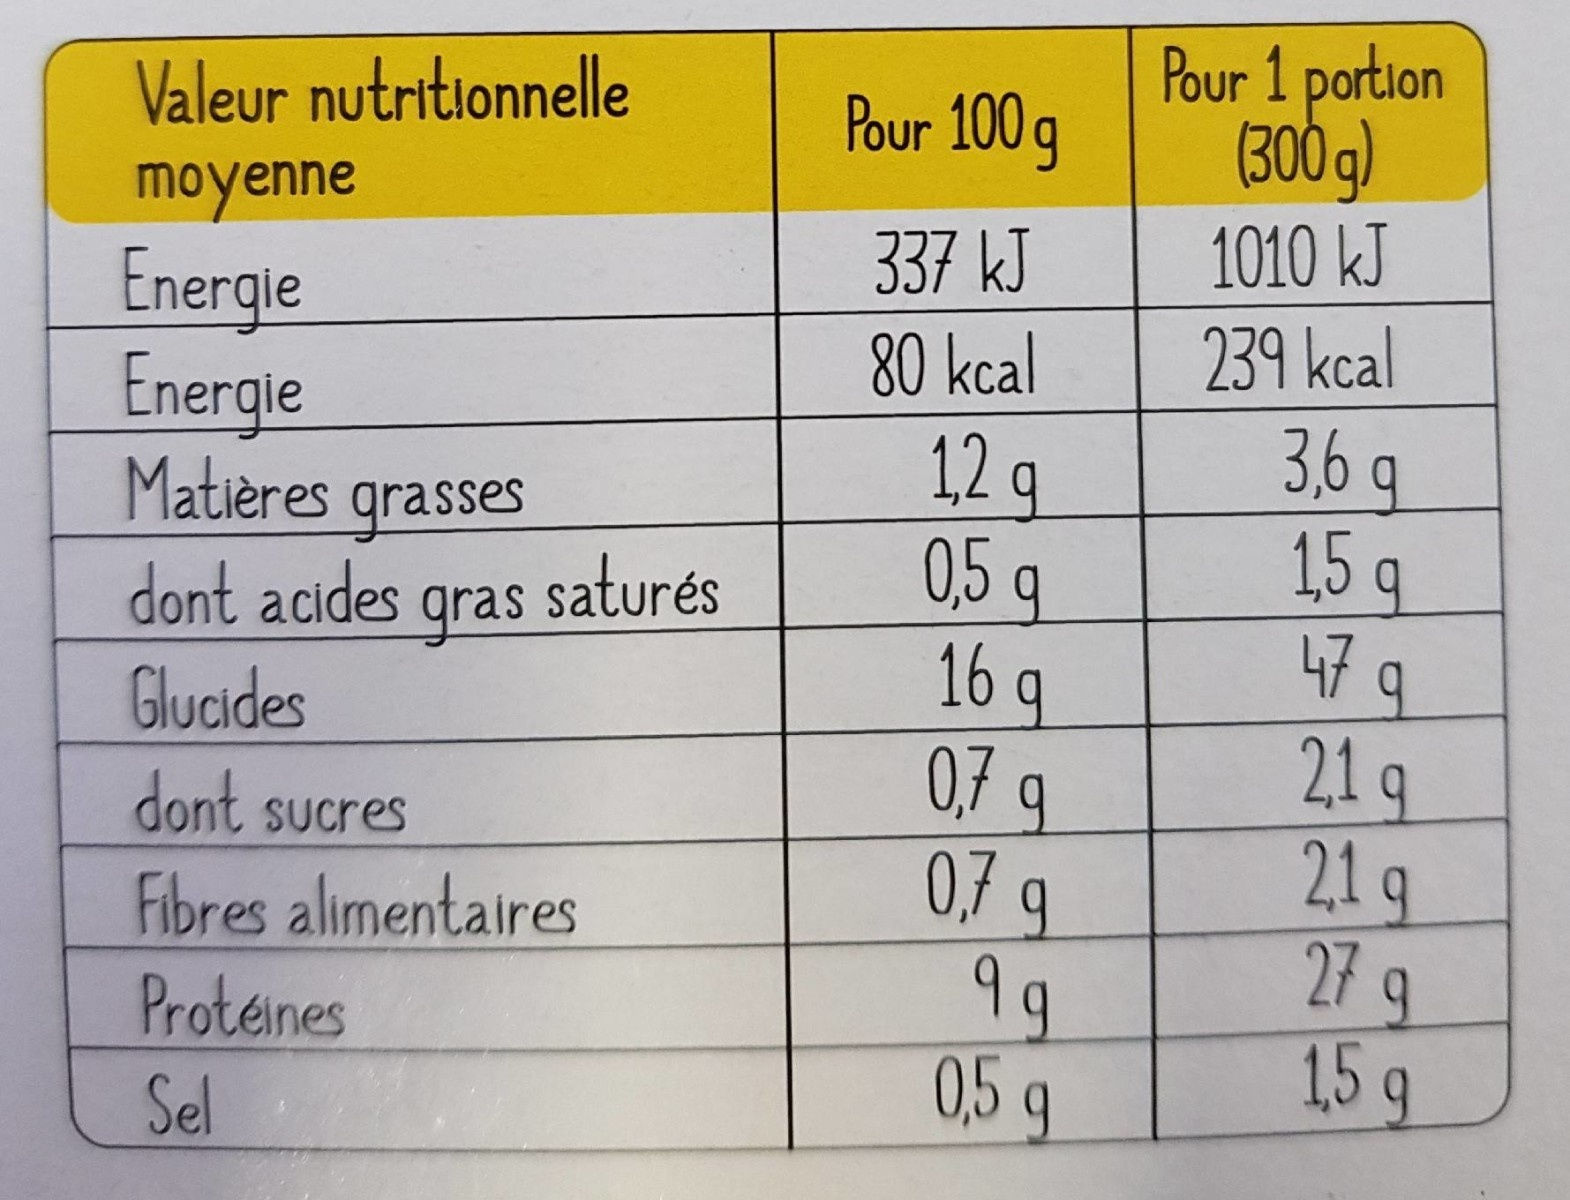column: (118, 43, 722, 1145), (1164, 37, 1453, 1134), (844, 48, 1063, 1143)
table: (42, 16, 1513, 1163)
